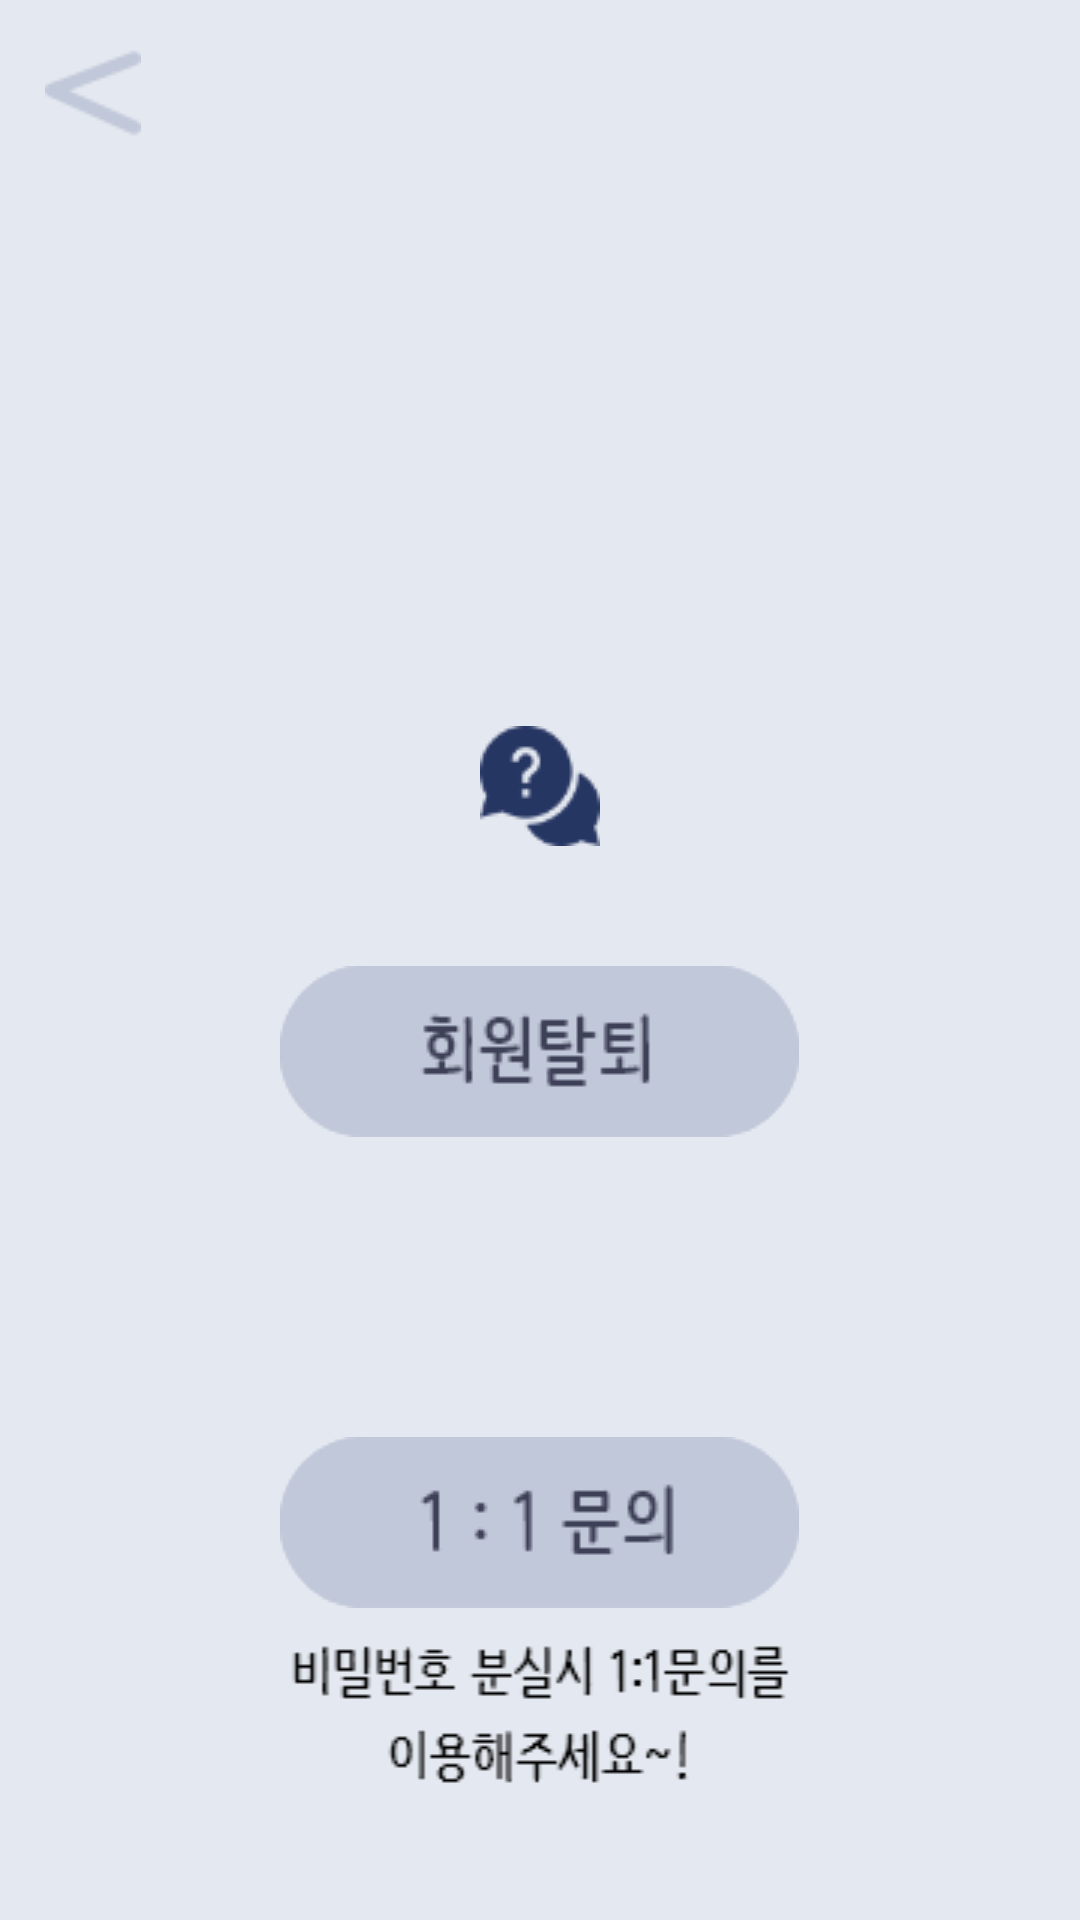

Icon bounding boxes for this 1080px x 1920px phone screenshot, format (x1, y1, x2, y2):
goback: (45, 53, 141, 133)
help: (480, 726, 600, 846)
